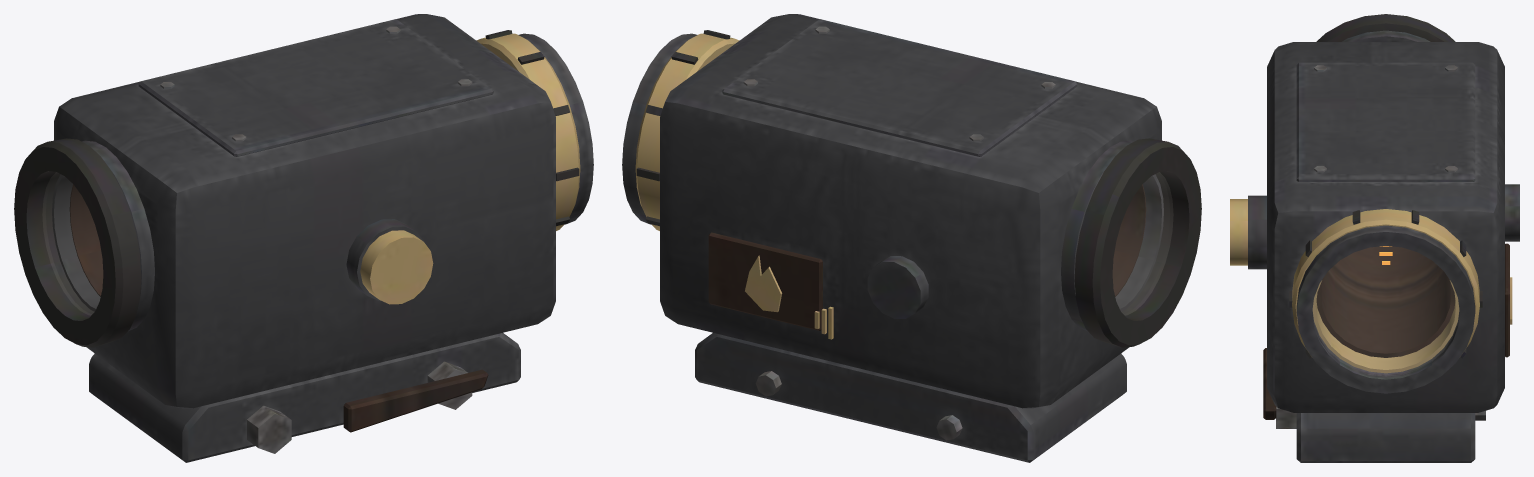
Rendered from kilnglass_2x.glb.
3 views of the same model, side by side, from view 1: azimuth 30°, elevation 25°; view 2: azimuth 150°, elevation 25°; view 3: azimuth 270°, elevation 25° (orthographic). The views are drawn at different scales.
Visible parts, largest first — view 1: kilnglass_2x; view 2: kilnglass_2x; view 3: kilnglass_2x.
Boxes of the visible parts, x1,y1,x2,y2 form: kilnglass_2x: (14, 14, 593, 462); kilnglass_2x: (622, 14, 1201, 462); kilnglass_2x: (1230, 14, 1519, 462).
Bounding box in the file's own units: 0.085 × 0.0512 × 0.0487.
3 materials, 1 textured.
